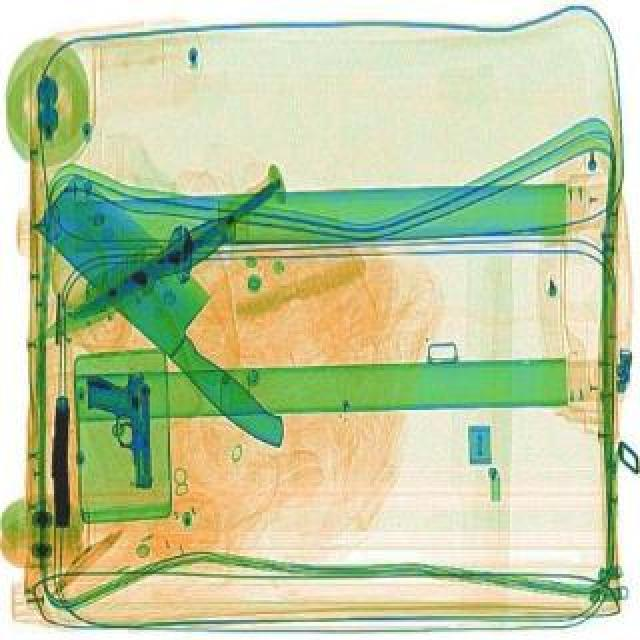gun: (86, 368, 154, 488), (52, 394, 72, 526)
knife: (20, 168, 328, 452), (66, 176, 282, 324), (26, 208, 248, 352)
